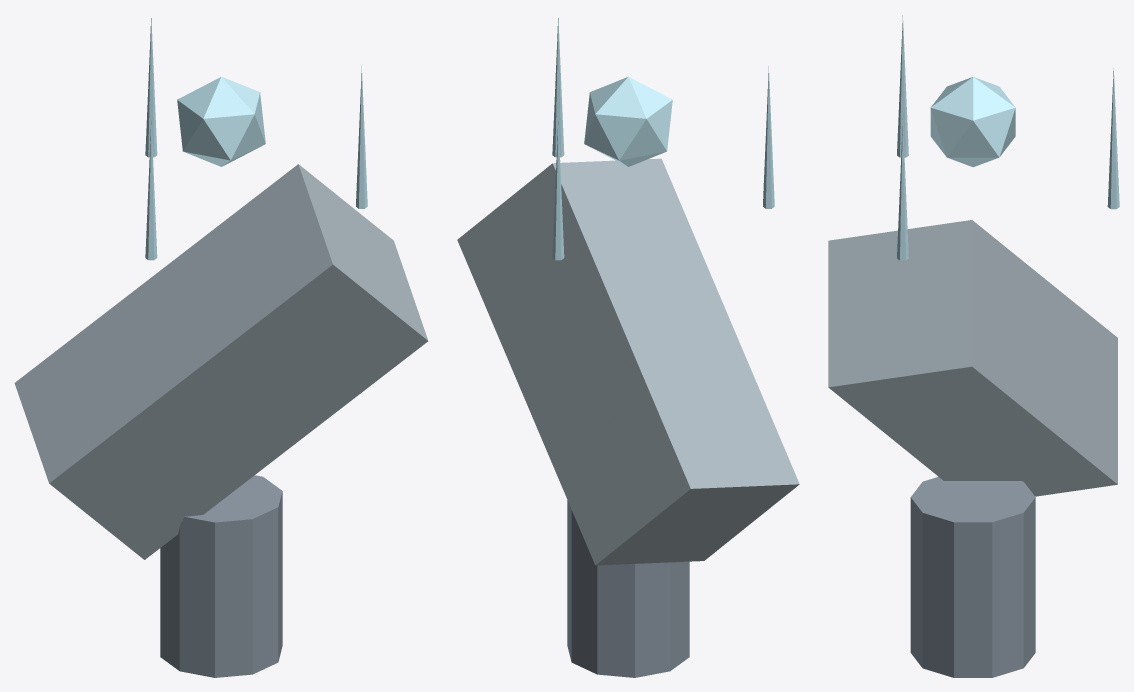
File: Tool_QuantumHarvester.fbx
3 views of the same model, side by side, from view 1: azimuth 30°, elevation 25°; view 2: azimuth 150°, elevation 25°; view 3: azimuth 270°, elevation 25° (orthographic).
Visible parts, largest first — view 1: Quantum_Body, Quantum_Grip, Quantum_Core, Quantum_Crystal2, Quantum_Crystal3, Quantum_Crystal1; view 2: Quantum_Body, Quantum_Grip, Quantum_Core, Quantum_Crystal1, Quantum_Crystal2, Quantum_Crystal3; view 3: Quantum_Body, Quantum_Grip, Quantum_Core, Quantum_Crystal1, Quantum_Crystal3, Quantum_Crystal2.
Boxes of the visible parts, box(x1,y1,x2,y2) form: Quantum_Body: box(14, 164, 428, 559); Quantum_Grip: box(160, 475, 282, 677); Quantum_Core: box(177, 76, 265, 166); Quantum_Crystal2: box(145, 120, 157, 260); Quantum_Crystal3: box(356, 66, 367, 208); Quantum_Crystal1: box(145, 18, 157, 157); Quantum_Body: box(457, 158, 799, 565); Quantum_Grip: box(567, 500, 689, 677); Quantum_Core: box(584, 76, 672, 166); Quantum_Crystal1: box(552, 120, 564, 260); Quantum_Crystal2: box(763, 66, 774, 208); Quantum_Crystal3: box(552, 18, 564, 157); Quantum_Body: box(828, 220, 1117, 496); Quantum_Grip: box(910, 477, 1035, 677); Quantum_Core: box(930, 77, 1015, 167); Quantum_Crystal1: box(1107, 68, 1119, 209); Quantum_Crystal3: box(897, 118, 908, 260); Quantum_Crystal2: box(897, 15, 908, 157).
Bounding box in the file's own units: 127 × 208 × 93.31.
